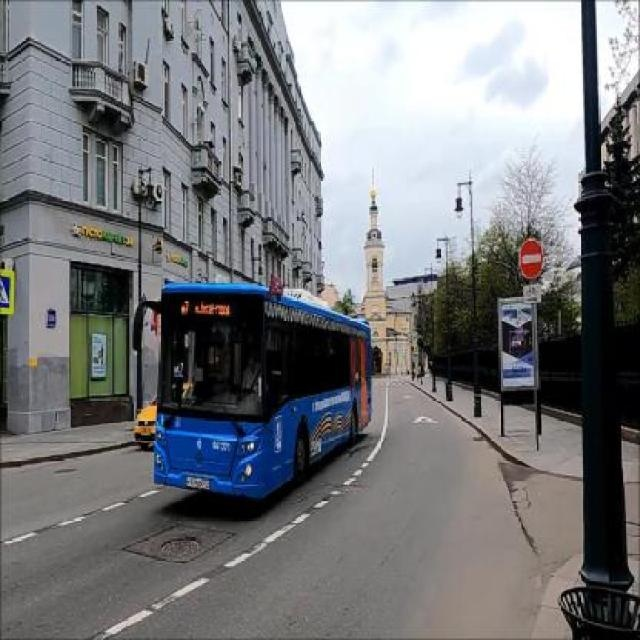Bus: (154, 282, 374, 500)
